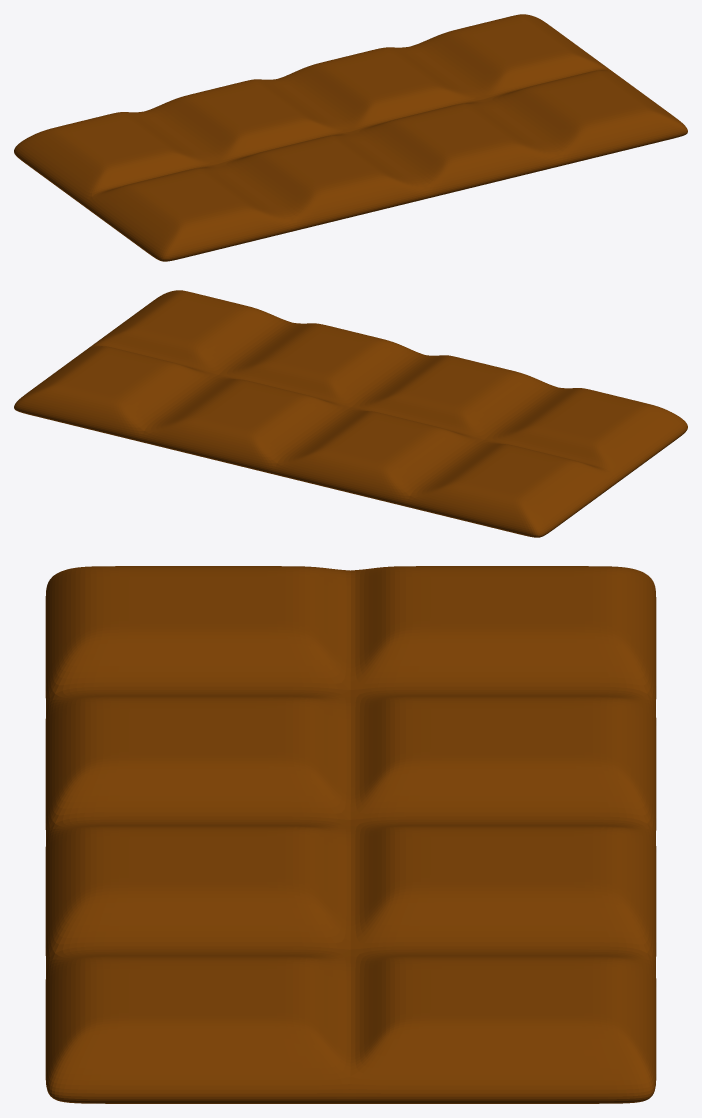
File: chocolatebar.glb
3 renders of one model, top to bottom at view 1: azimuth 30°, elevation 25°; view 2: azimuth 150°, elevation 25°; view 3: azimuth 270°, elevation 25°, orthographic. The views are drawn at different scales.
Parts seen in each view (by area): view 1: Cube.003; view 2: Cube.003; view 3: Cube.003.
Boxes of the visible parts, x1,y1,x2,y2 form: Cube.003: (14,14,687,261); Cube.003: (14,290,687,537); Cube.003: (45,566,656,1103).
Size of the model in its own units: 1.99 by 0.1 by 0.994.
